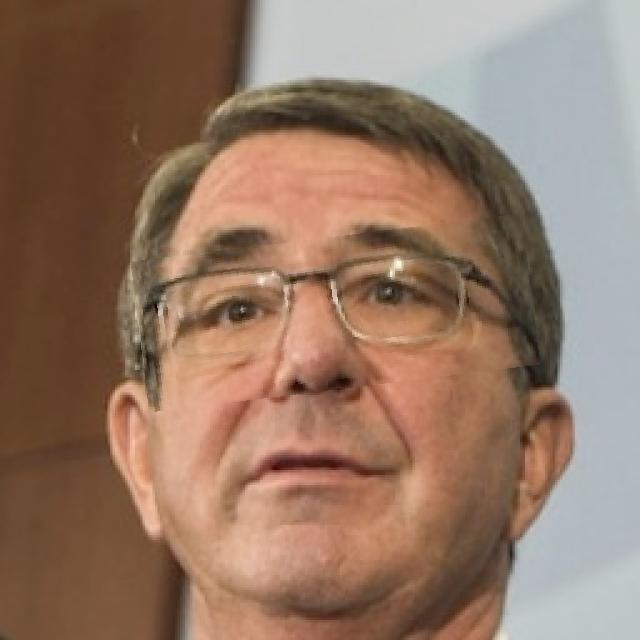glasses: (135, 226, 537, 401)
